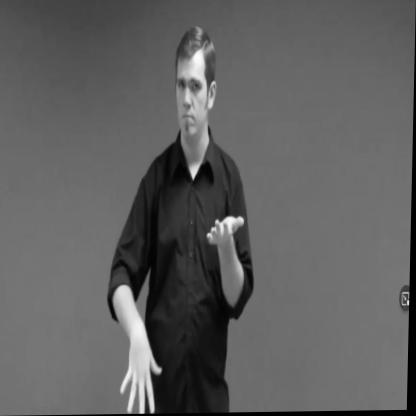Expensive: (121, 196, 249, 413)
